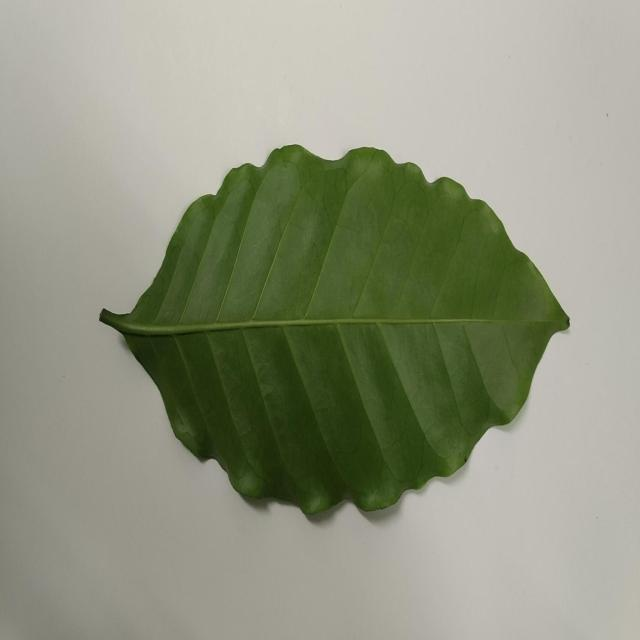Sanas: (98, 144, 571, 526)
